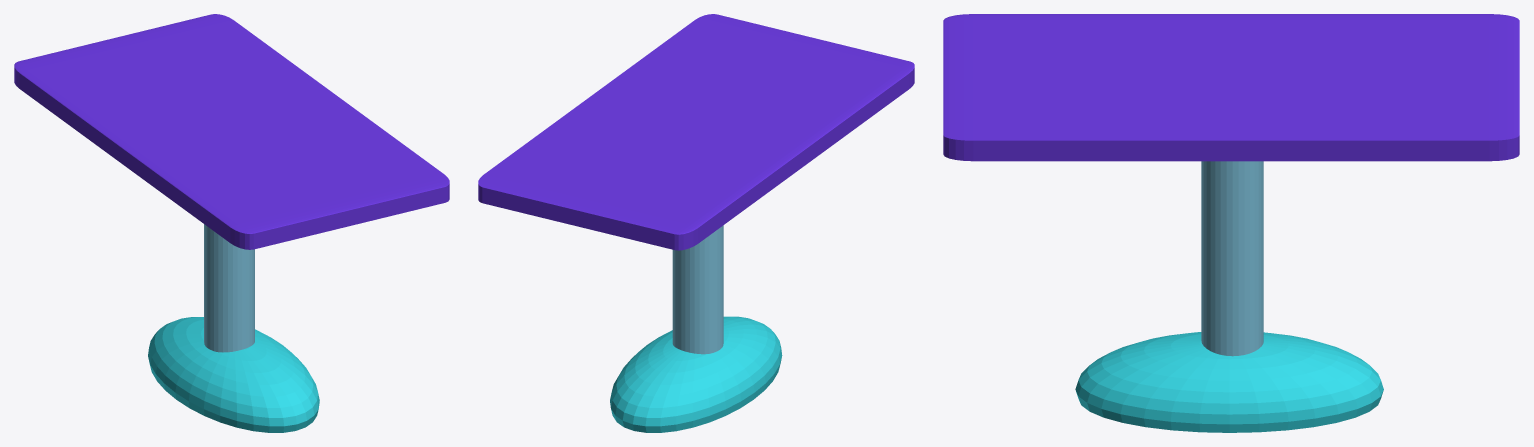
Rendered from myModel.glb.
3 views of the same model, side by side, from view 1: azimuth 30°, elevation 25°; view 2: azimuth 150°, elevation 25°; view 3: azimuth 270°, elevation 25° (orthographic). The views are drawn at different scales.
Visible parts, largest first — view 1: Cube, Sphere, Cylinder; view 2: Cube, Sphere, Cylinder; view 3: Cube, Sphere, Cylinder.
Boxes of the visible parts, left/top/right/bottom form: Cube: left=14, top=14, right=449, bottom=249; Sphere: left=148, top=317, right=319, bottom=432; Cylinder: left=204, top=224, right=254, bottom=352; Cube: left=478, top=14, right=914, bottom=250; Sphere: left=610, top=316, right=782, bottom=432; Cylinder: left=672, top=225, right=723, bottom=354; Cube: left=943, top=14, right=1519, bottom=161; Sphere: left=1075, top=332, right=1383, bottom=432; Cylinder: left=1201, top=161, right=1263, bottom=356.
Bounding box in the file's own units: 4.19 × 4.91 × 7.98.
